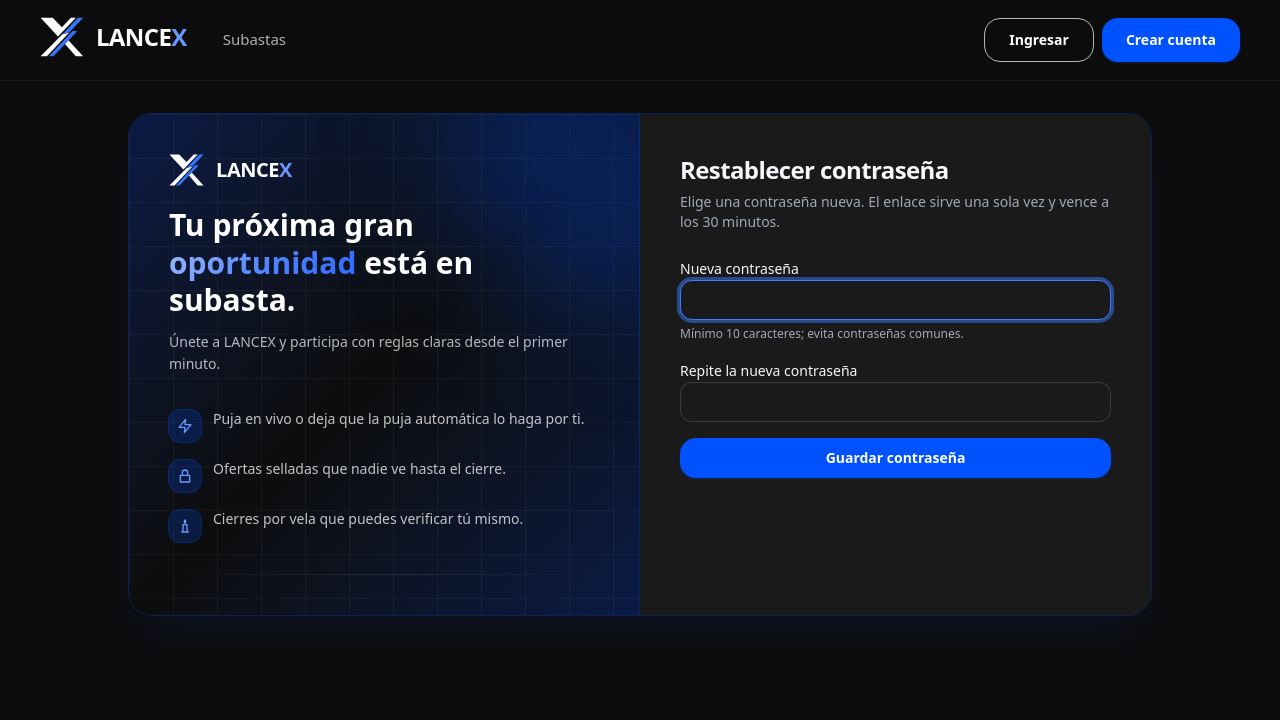
it: Restablecer contraseña con el enlace del admin › enlace vencido: muestra el motivo del backend
In the password field labelled "Nueva contraseña": (896, 300) [680,280,1111,320], type "OtraClave2026!!"
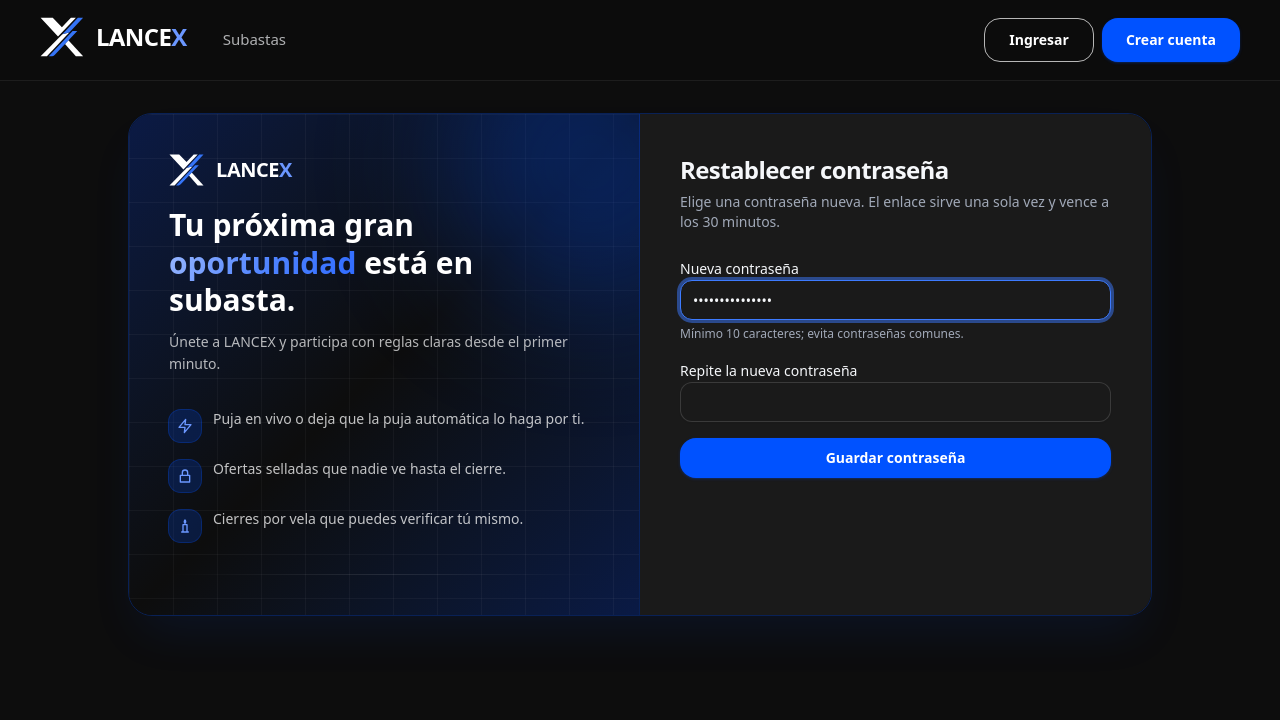
In the password field labelled "Repite la nueva contraseña": (896, 402) [680,382,1111,422], type "OtraClave2026!!"
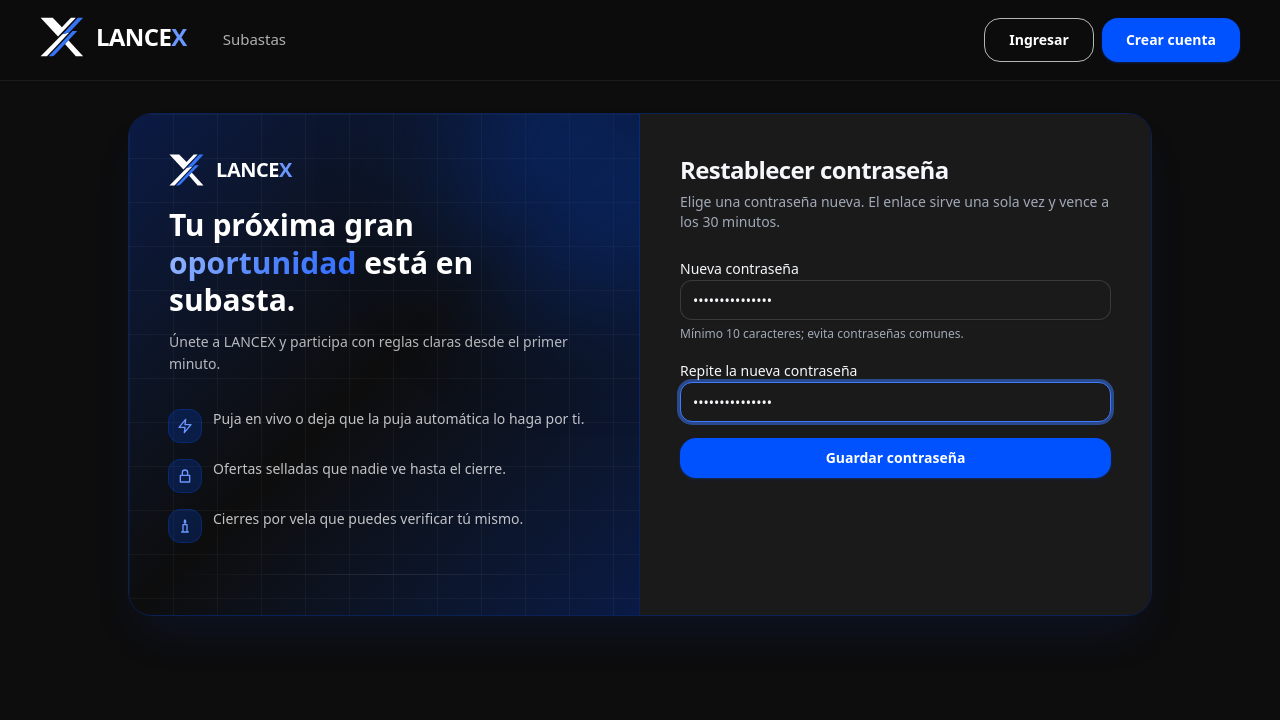
Click the button "Guardar contraseña": (896, 458) [680,438,1111,478]
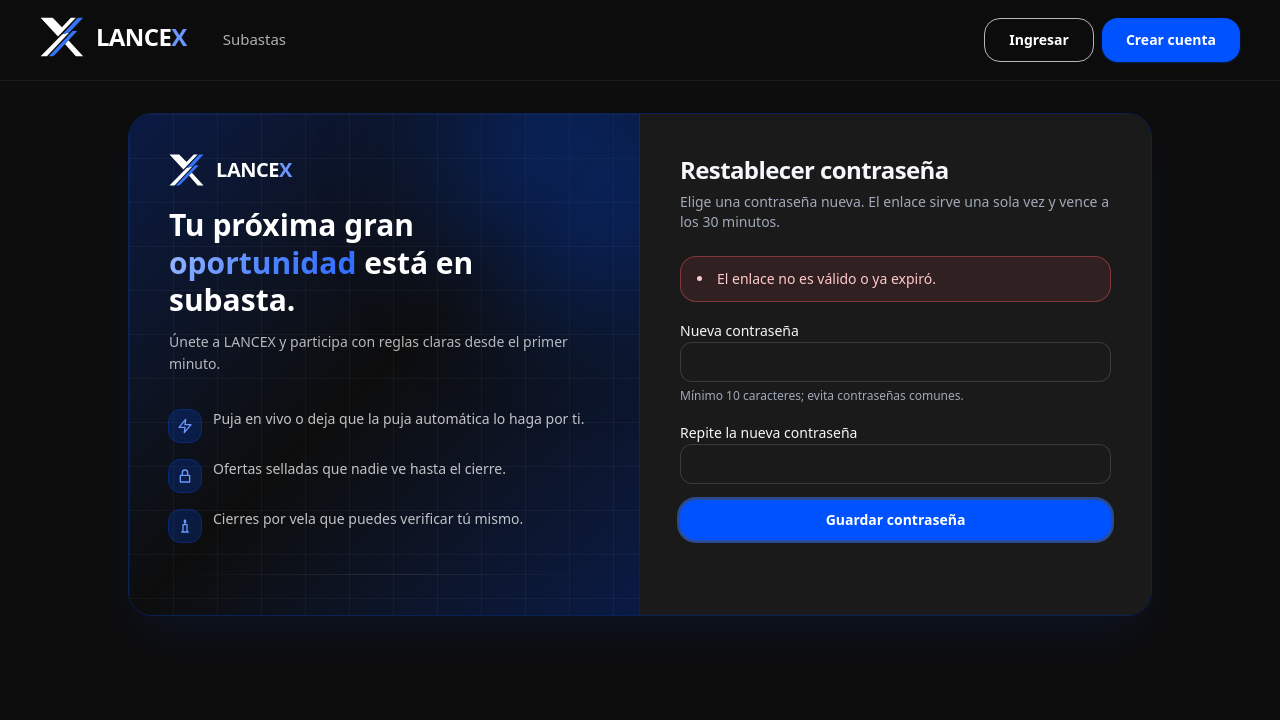
Now the message reads "El enlace no es válido o ya expiró.", box [717,269,936,288]
